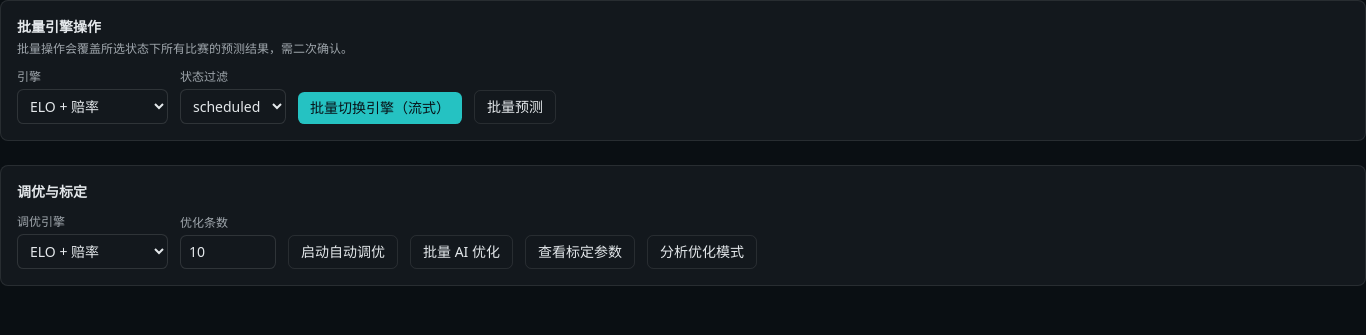
Test: EngineConsole › explains an empty calibration instead of rendering a blank block
Click the button with test id "calibration-button".
click(580, 252)  # box x1=525 y1=235 x2=635 y2=269
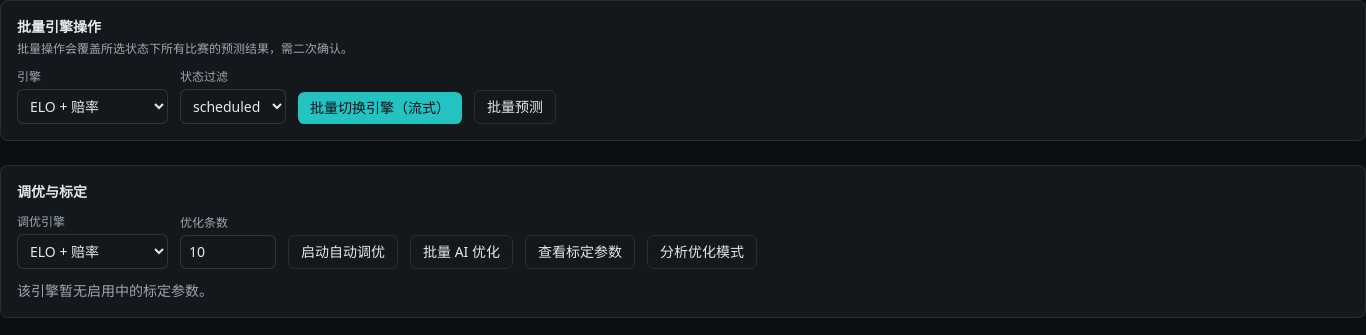
Check: the element with test id "calibration-result" reads "该引擎暂无启用中的标定参数。", box x1=17 y1=281 x2=213 y2=300
